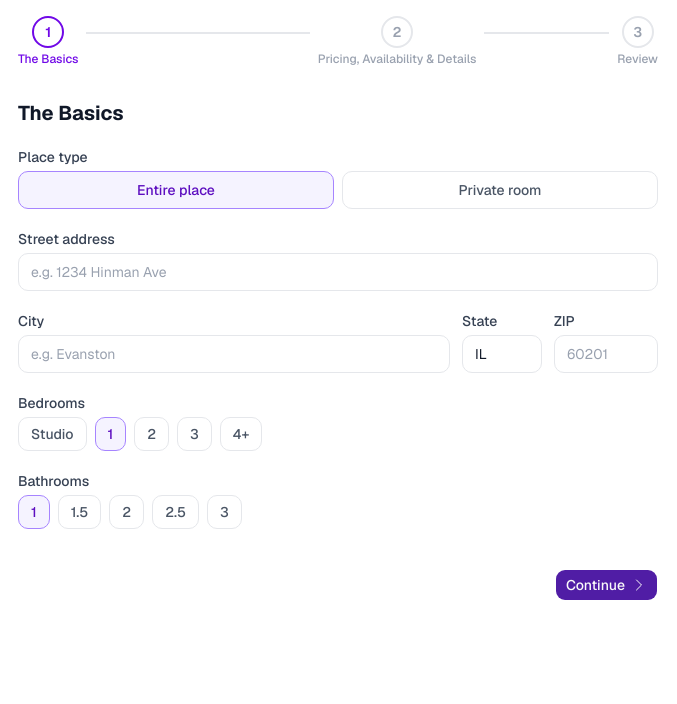
it: ListingForm › step 2 derives quarters from the dates instead of asking for them
Type "1234 Hinman Ave" into the field with placeholder "e.g. 1234 Hinman Ave" at (338, 272), box [18,253,658,291]
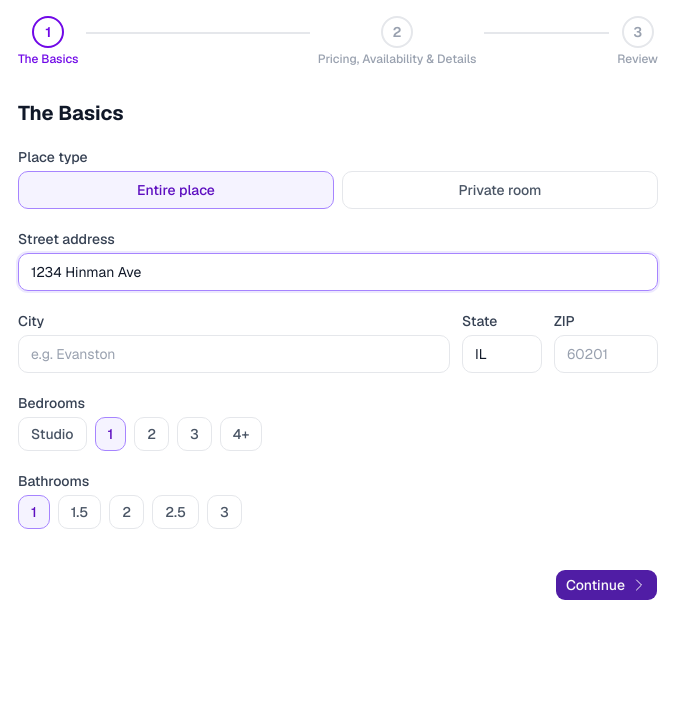
Type "Evanston" into the field with placeholder "e.g. Evanston" at (234, 354), box [18,335,450,373]
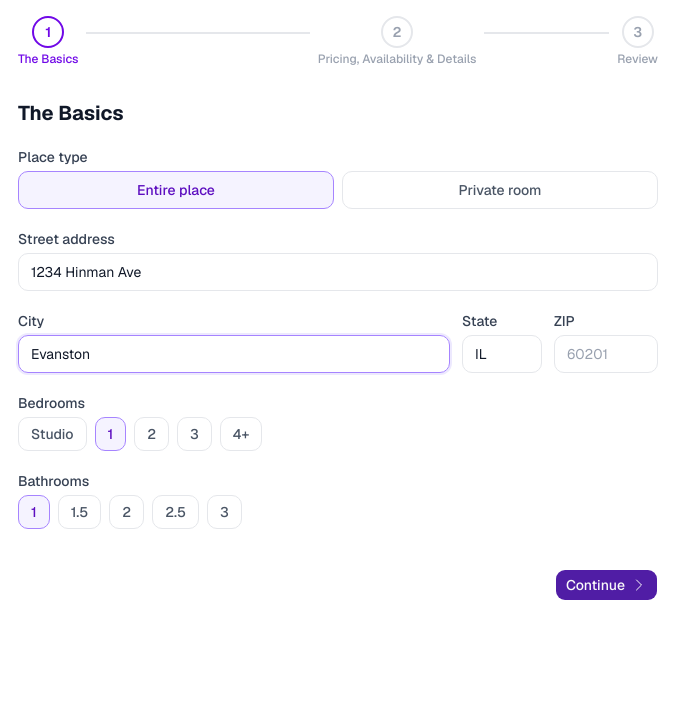
Type "60202" into the field with placeholder "60201" at (606, 354), box [554,335,658,373]
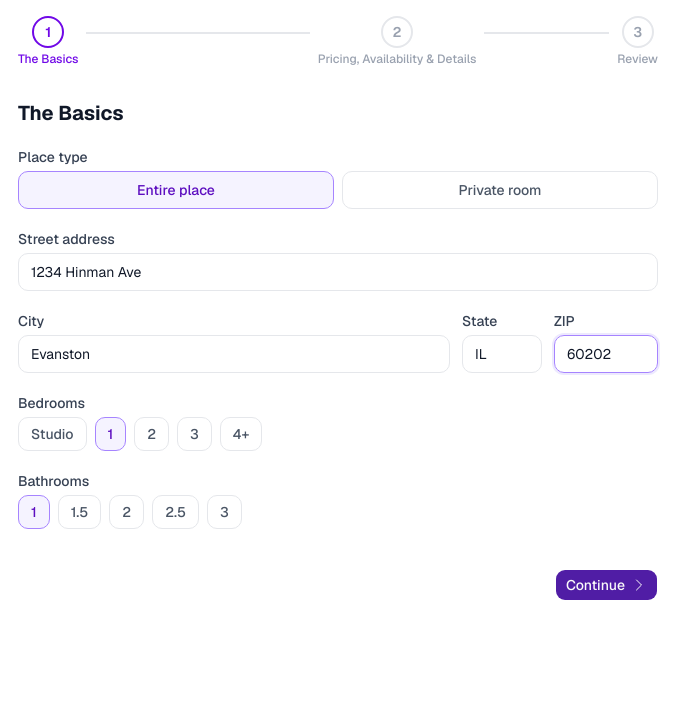
Click the button "Continue" at (606, 585), box [555,569,658,601]
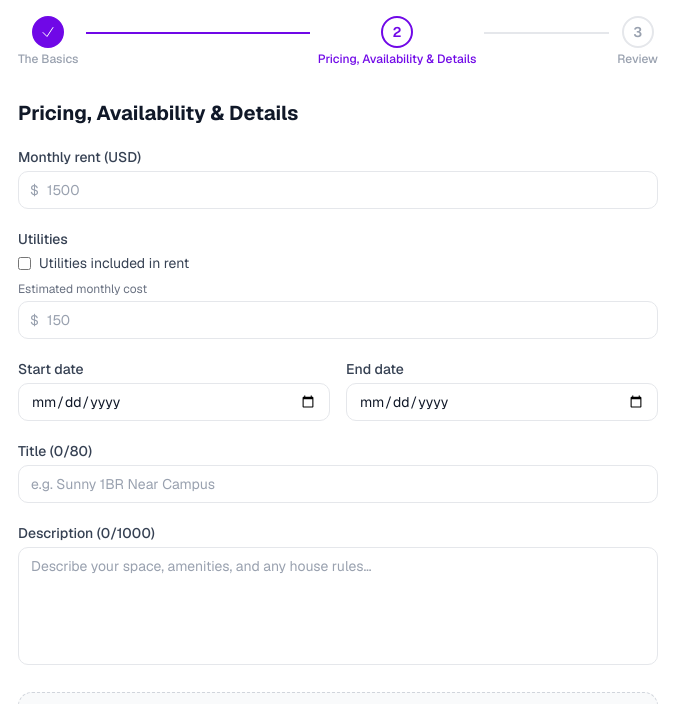
Expected: the button "Fall" is not shown
Type "2026-09-15" into the date field below "Start date" at (174, 402), box [18,383,330,421]
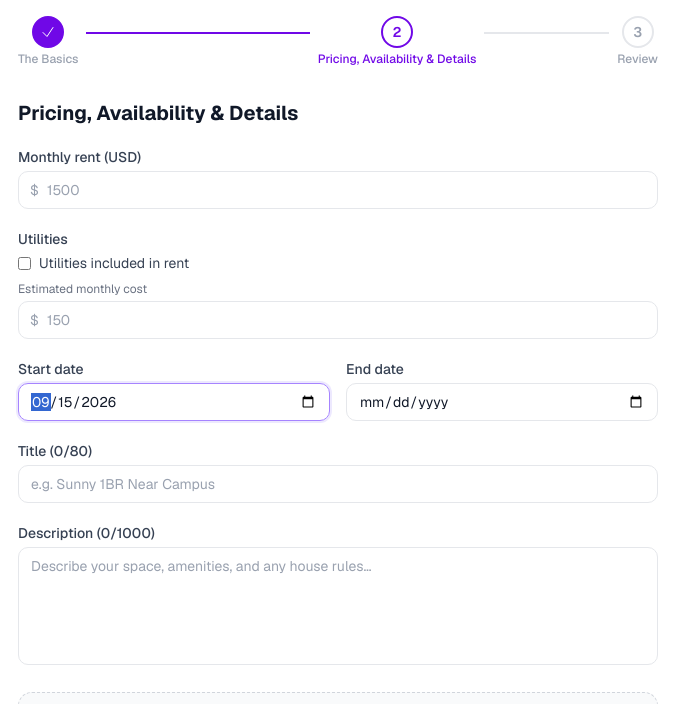
Type "2027-01-15" into the date field below "End date" at (502, 402), box [346,383,658,421]
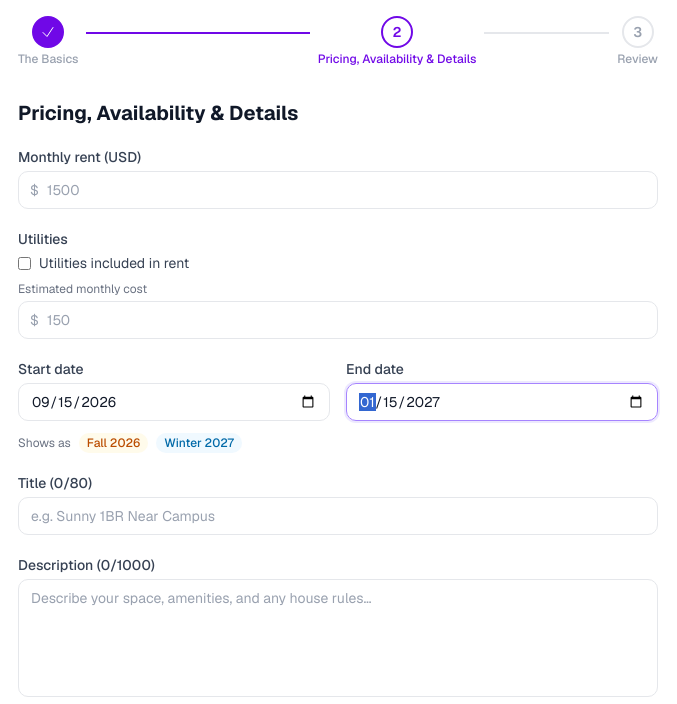
Expected: the text "Fall 2026" is shown, [79,433,148,453]
Expected: the text "Winter 2027" is shown, [156,433,242,453]
